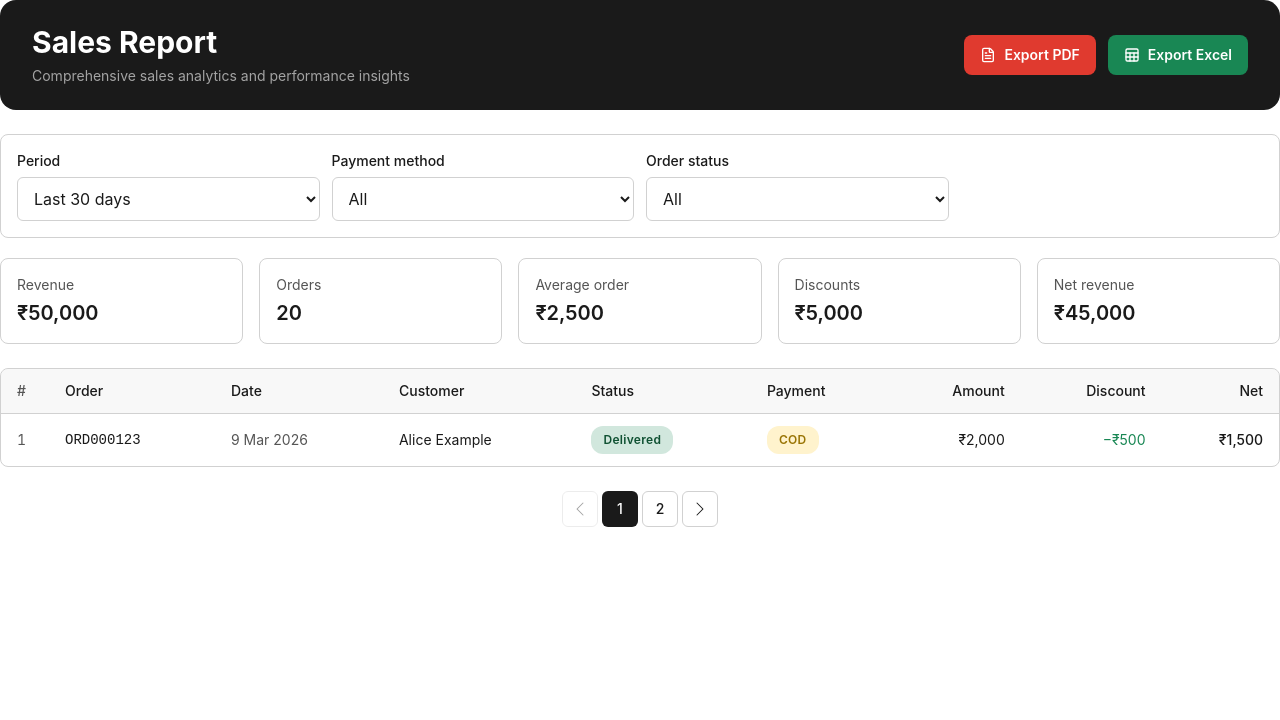
Test: SalesReportPage › reveals the date range only for a custom period
The width and height of the screenshot is (1280, 720).
Expected: the text "ORD000123" is shown, [49,414,215,466]
Expected: the field labelled "From" is not shown
Select "Custom range" in the dropdown labelled "Period" at (168,199), box [17,177,320,221]
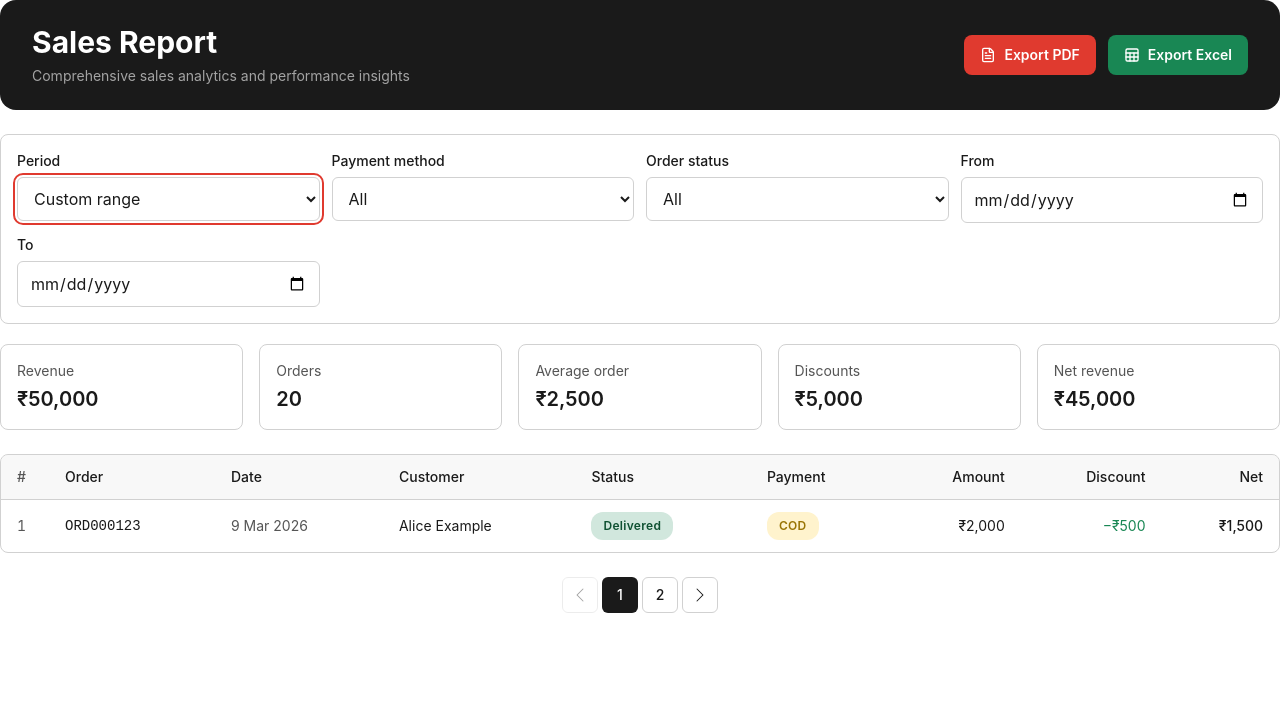
Now the date field labelled "From" is shown, box [960,177,1263,223]
